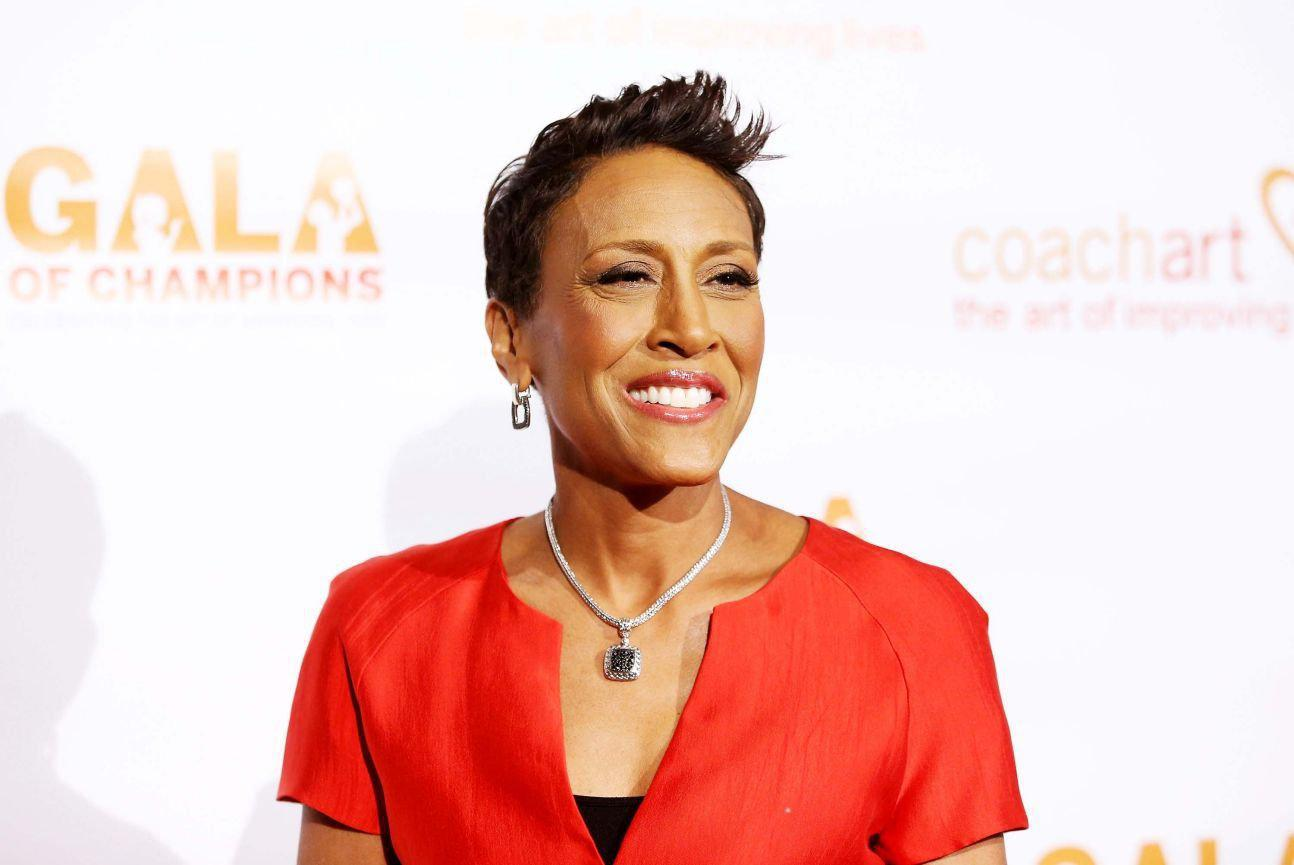Sober: (541, 174, 759, 475)
